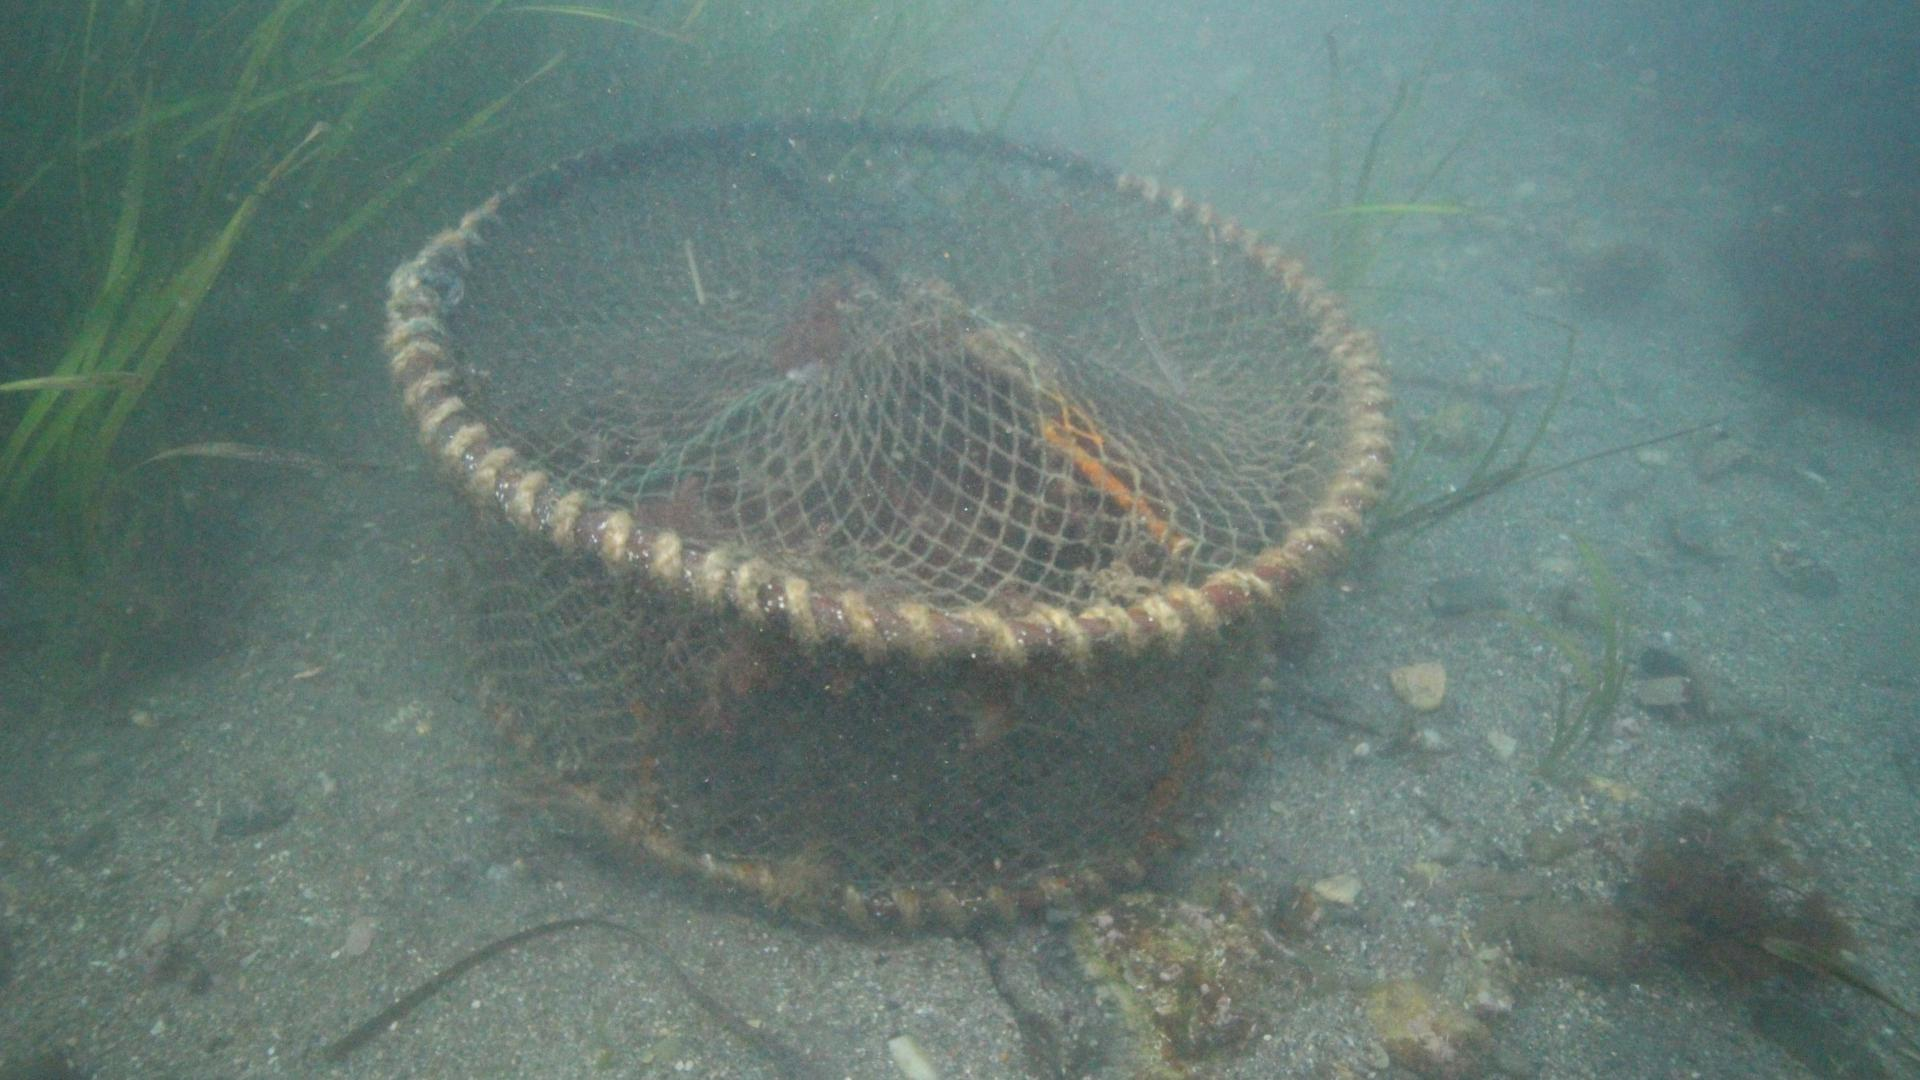circular fish trap: (382, 107, 1399, 934)
